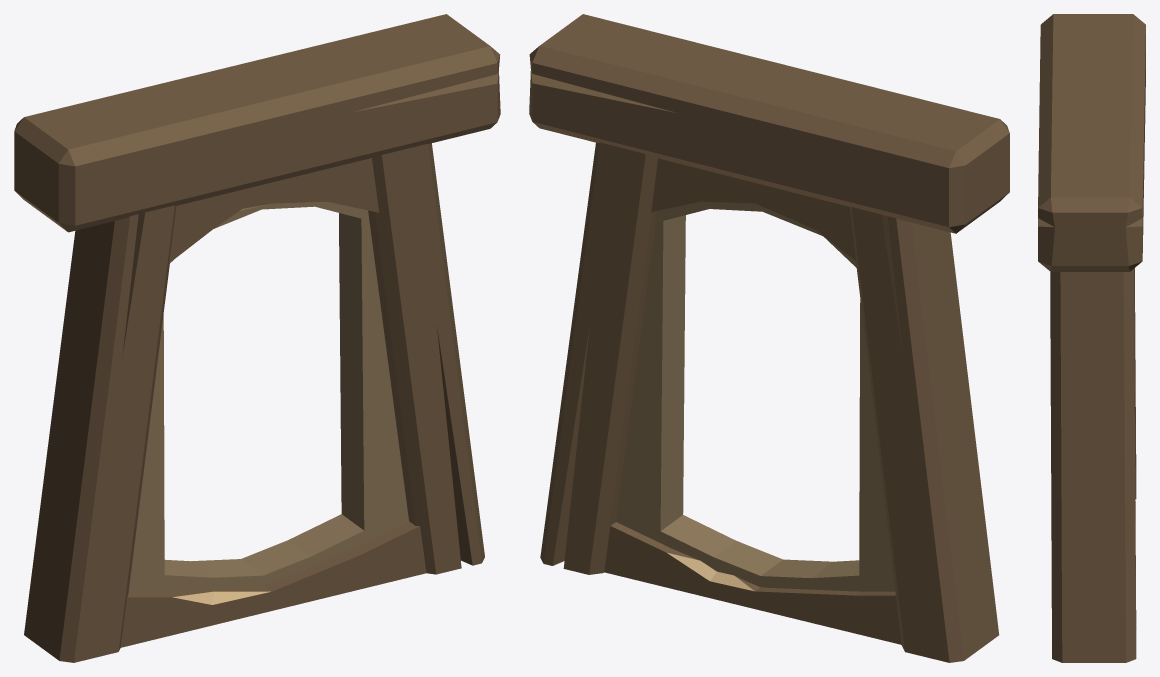
File: rpgpp_ag_door_frame_06.fbx
3 views of the same model, side by side, from view 1: azimuth 30°, elevation 25°; view 2: azimuth 150°, elevation 25°; view 3: azimuth 270°, elevation 25° (orthographic). The views are drawn at different scales.
Visible parts, largest first — view 1: rpgpp_ag_door_frame_06; view 2: rpgpp_ag_door_frame_06; view 3: rpgpp_ag_door_frame_06.
Part boxes in pixels (left/top/right/bottom): rpgpp_ag_door_frame_06: left=14, top=14, right=500, bottom=662; rpgpp_ag_door_frame_06: left=529, top=14, right=1009, bottom=662; rpgpp_ag_door_frame_06: left=1038, top=14, right=1145, bottom=662.
Size of the model in its own units: 2.7 by 3.02 by 0.635.
